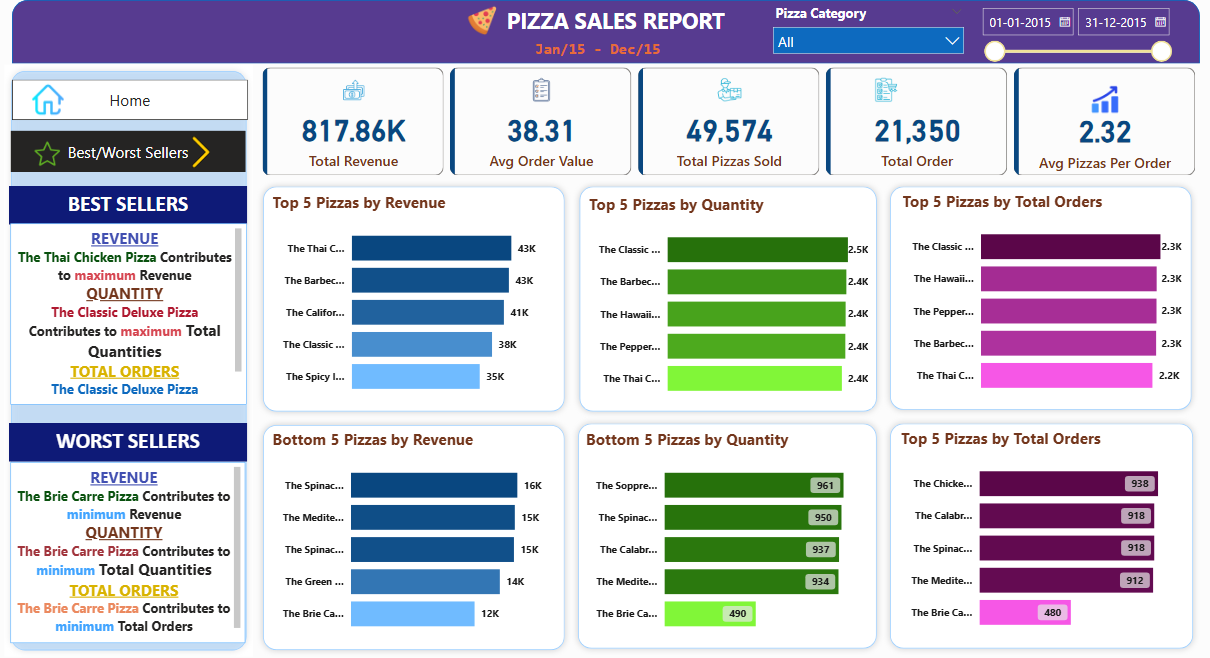

The dashboard page shown, as its layout file describes it:
{"tool":"powerbi","page":{"name":"Best/Worst Sellers","canvas":[1500,820],"ordinal":1},"visuals":[{"type":"shape","box":[17.7,0,1460.4,78.1],"z":0},{"type":"cardVisual","fields":{"Data":["pizzadb pizza_sales.Total Revenue","pizzadb pizza_sales.Avg Order Value","pizzadb pizza_sales.Total Pizzas Sold","pizzadb pizza_sales.Total Order","pizzadb pizza_sales.Avg Pizzas Per Order"]},"box":[320.9,77.5,1160,143.8],"z":1000},{"type":"textbox","box":[597.5,1.8,326.4,47.9],"z":2000},{"type":"textbox","box":[656.5,44.3,188.1,33.2],"z":3000},{"type":"image","box":[570.4,1.9,53.7,46.3],"z":4000},{"type":"shape","box":[319.4,221.8,386.8,292.8],"z":5000},{"type":"shape","box":[9.4,79.2,305.7,728.3],"z":6000},{"type":"textbox","box":[15.1,228.3,292.5,47.2],"z":7000},{"type":"textbox","box":[17,275.5,290.6,222.6],"z":8000},{"type":"textbox","box":[15.1,520.8,292.5,47.2],"z":9000},{"type":"textbox","box":[17,567.9,288.7,222.6],"z":10000},{"type":"slicer","fields":{"Values":["pizzadb pizza_sales.pizza_category"]},"box":[944.2,0,254.5,77.5],"z":11000},{"type":"slicer","fields":{"Values":["pizzadb pizza_sales.order_date"]},"box":[1198.7,0,254.5,77.5],"z":12000},{"type":"shape","box":[708,221.8,381.5,292.8],"z":13000},{"type":"shape","box":[1090.6,220.8,386.8,290.6],"z":14000},{"type":"shape","box":[319.4,514.6,386.8,292.8],"z":15000},{"type":"shape","box":[706.2,512.8,383.3,292.8],"z":16000},{"type":"shape","box":[1089.5,512.8,388.6,292.8],"z":17000},{"type":"barChart","title":"Top 5 Pizzas by Revenue","fields":{"Category":["pizzadb pizza_sales.pizza_name"],"Y":["pizzadb pizza_sales.Total Revenue"]},"box":[334.4,237,354.3,263.5],"z":18000},{"type":"barChart","title":"Bottom 5 Pizzas by Revenue","fields":{"Category":["pizzadb pizza_sales.pizza_name"],"Y":["pizzadb pizza_sales.Total Revenue"]},"box":[334,528.3,352.8,264.2],"z":19000},{"type":"barChart","title":"Top 5 Pizzas by Quantity","fields":{"Category":["pizzadb pizza_sales.pizza_name"],"Y":["pizzadb pizza_sales.Total Pizzas Sold"]},"box":[722.6,237.7,352.8,264.2],"z":20000},{"type":"barChart","title":"Bottom 5 Pizzas by Quantity","fields":{"Category":["pizzadb pizza_sales.pizza_name"],"Y":["pizzadb pizza_sales.Total Pizzas Sold"]},"box":[718.9,528.3,352.8,264.2],"z":21000},{"type":"barChart","title":"Top 5 Pizzas by Total Orders","fields":{"Category":["pizzadb pizza_sales.pizza_name"],"Y":["pizzadb pizza_sales.Total Order"]},"box":[1107.5,234,352.8,264.2],"z":22000},{"type":"barChart","title":"Top 5 Pizzas by Total Orders","fields":{"Category":["pizzadb pizza_sales.pizza_name"],"Y":["pizzadb pizza_sales.Total Order"]},"box":[1105.7,526.4,352.8,264.2],"z":23000},{"type":"pageNavigator","box":[18.9,98.1,290.6,50.9],"z":24000},{"type":"pageNavigator","box":[16.6,160.4,289.5,51.6],"z":25000},{"type":"image","box":[218.9,162.3,62.3,49.1],"z":26000},{"type":"image","box":[32.1,98.1,62.3,49.1],"z":27000},{"type":"image","box":[30.2,167.9,64.2,41.5],"z":28000},{"type":"image","box":[1338.8,97.7,46.1,49.8],"z":29000}]}

Visuals, with their boxes in screenshot pixels (x1, y1, x2, y2), scaled from the page's 1500x820 canvas onto the 1210x658 screenshot:
shape: {"x1": 14, "y1": 0, "x2": 1192, "y2": 63}
cardVisual - pizzadb pizza_sales.Total Revenue x pizzadb pizza_sales.Avg Order Value: {"x1": 259, "y1": 62, "x2": 1195, "y2": 178}
textbox: {"x1": 482, "y1": 1, "x2": 745, "y2": 40}
textbox: {"x1": 530, "y1": 36, "x2": 681, "y2": 62}
image: {"x1": 460, "y1": 2, "x2": 503, "y2": 39}
shape: {"x1": 258, "y1": 178, "x2": 570, "y2": 413}
shape: {"x1": 8, "y1": 64, "x2": 254, "y2": 648}
textbox: {"x1": 12, "y1": 183, "x2": 248, "y2": 221}
textbox: {"x1": 14, "y1": 221, "x2": 248, "y2": 400}
textbox: {"x1": 12, "y1": 418, "x2": 248, "y2": 456}
textbox: {"x1": 14, "y1": 456, "x2": 247, "y2": 634}
slicer - pizzadb pizza_sales.pizza_category: {"x1": 762, "y1": 0, "x2": 967, "y2": 62}
slicer - pizzadb pizza_sales.order_date: {"x1": 967, "y1": 0, "x2": 1172, "y2": 62}
shape: {"x1": 571, "y1": 178, "x2": 879, "y2": 413}
shape: {"x1": 880, "y1": 177, "x2": 1192, "y2": 410}
shape: {"x1": 258, "y1": 413, "x2": 570, "y2": 648}
shape: {"x1": 570, "y1": 411, "x2": 879, "y2": 646}
shape: {"x1": 879, "y1": 411, "x2": 1192, "y2": 646}
"Top 5 Pizzas by Revenue" barChart: {"x1": 270, "y1": 190, "x2": 556, "y2": 402}
"Bottom 5 Pizzas by Revenue" barChart: {"x1": 269, "y1": 424, "x2": 554, "y2": 636}
"Top 5 Pizzas by Quantity" barChart: {"x1": 583, "y1": 191, "x2": 867, "y2": 403}
"Bottom 5 Pizzas by Quantity" barChart: {"x1": 580, "y1": 424, "x2": 865, "y2": 636}
"Top 5 Pizzas by Total Orders" barChart: {"x1": 893, "y1": 188, "x2": 1178, "y2": 400}
"Top 5 Pizzas by Total Orders" barChart: {"x1": 892, "y1": 422, "x2": 1177, "y2": 634}
pageNavigator: {"x1": 15, "y1": 79, "x2": 250, "y2": 120}
pageNavigator: {"x1": 13, "y1": 129, "x2": 247, "y2": 170}
image: {"x1": 177, "y1": 130, "x2": 227, "y2": 170}
image: {"x1": 26, "y1": 79, "x2": 76, "y2": 118}
image: {"x1": 24, "y1": 135, "x2": 76, "y2": 168}
image: {"x1": 1080, "y1": 78, "x2": 1117, "y2": 118}
